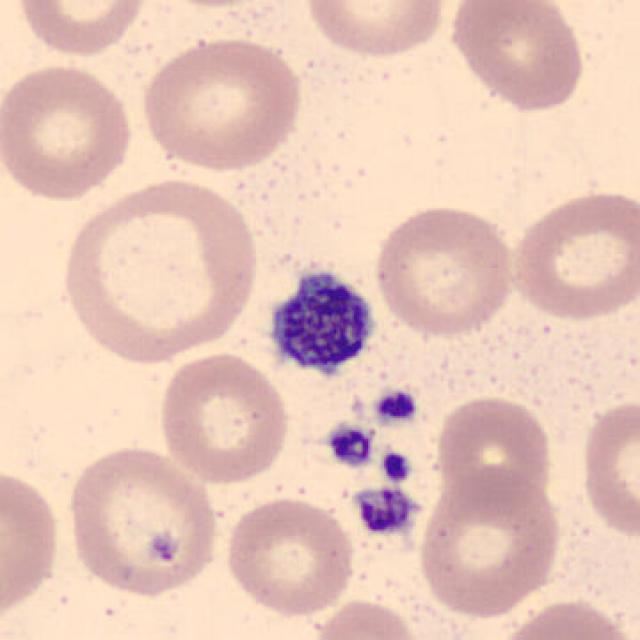Platelets: (260, 256, 384, 384), (348, 485, 422, 538), (324, 421, 375, 469), (372, 386, 419, 427), (379, 449, 414, 485)
RBC: (55, 173, 263, 368), (62, 441, 224, 601), (137, 32, 306, 175), (414, 464, 566, 620), (372, 201, 518, 339), (2, 60, 138, 204), (155, 349, 293, 487), (507, 185, 638, 323), (222, 492, 359, 619), (442, 0, 588, 113), (432, 392, 556, 512), (0, 462, 64, 629), (576, 395, 640, 545), (300, 0, 450, 60), (11, 0, 153, 58), (492, 596, 636, 640), (309, 596, 425, 640)
